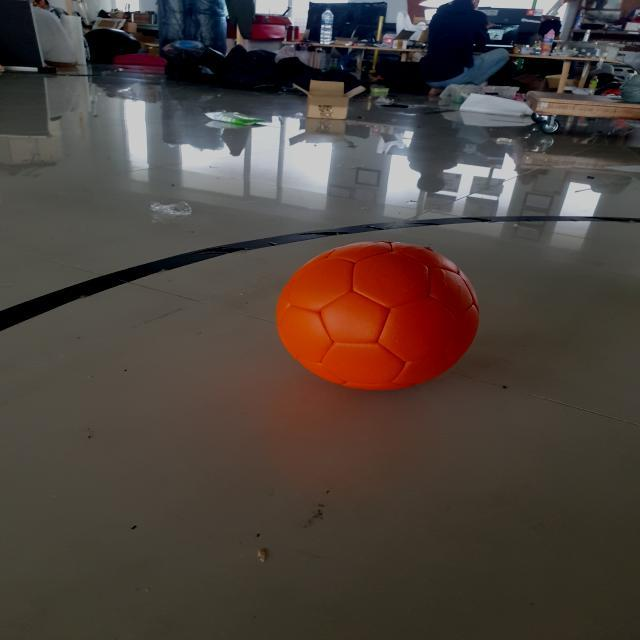bola: (270, 238, 487, 396)
